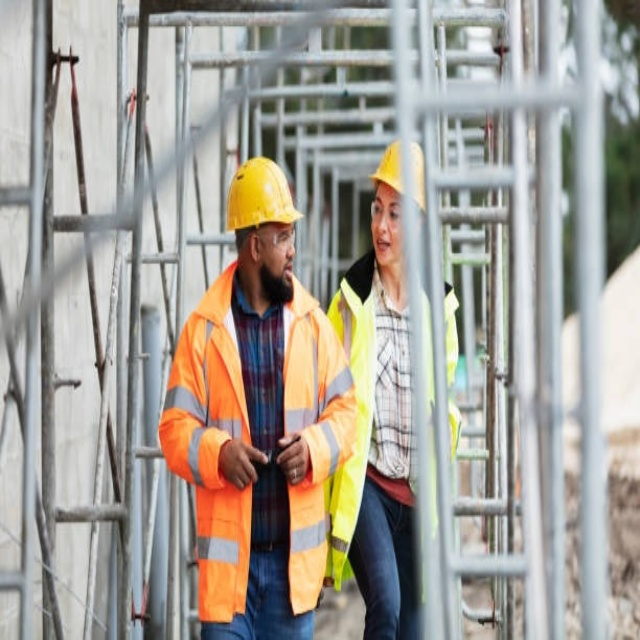Gafas: (254, 227, 297, 248), (370, 195, 399, 225)
Sin_guantes: (220, 429, 271, 491), (277, 429, 310, 486)
Sin_mascara: (374, 229, 397, 258), (274, 255, 295, 283)
